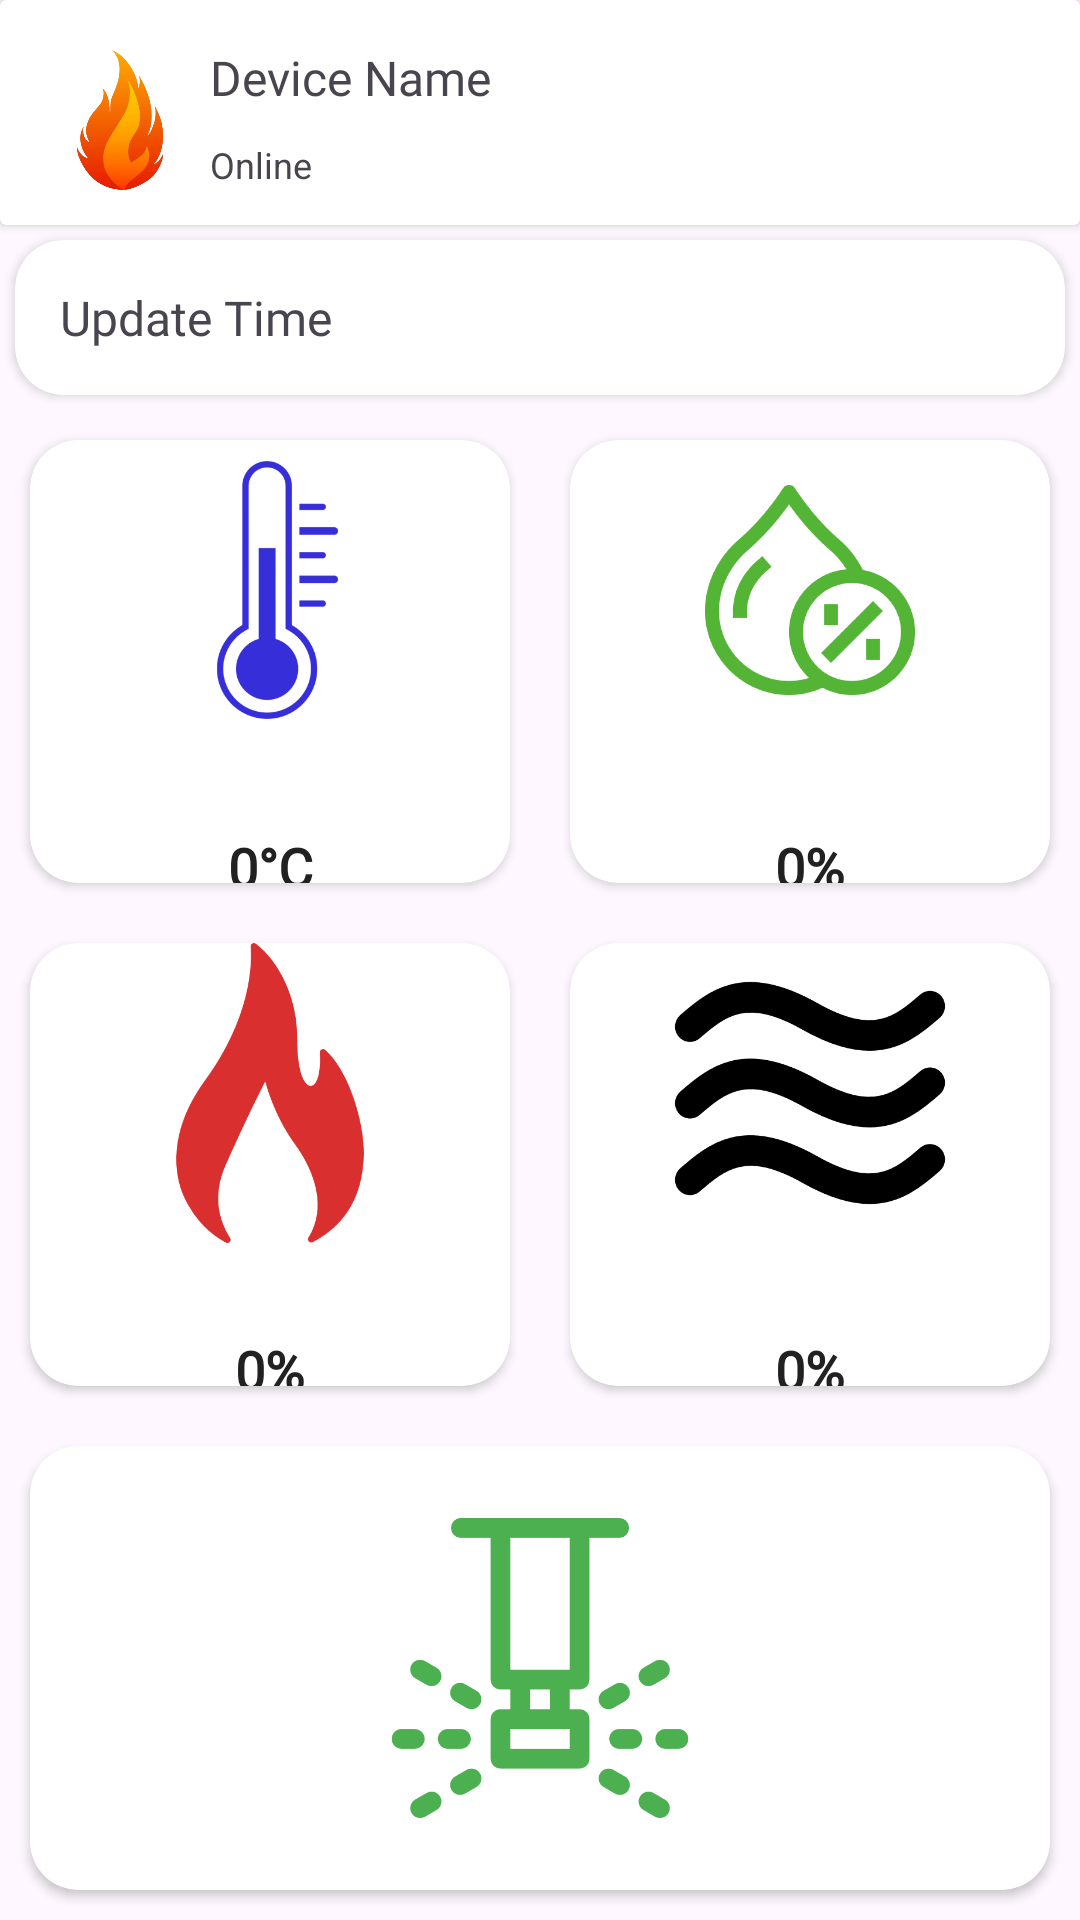

Named icons in this screenshot (1080*1920) and their centers, point (x, y):
flame: point (198, 1093)
humd: point (810, 590)
sprinkle: point (540, 1668)
